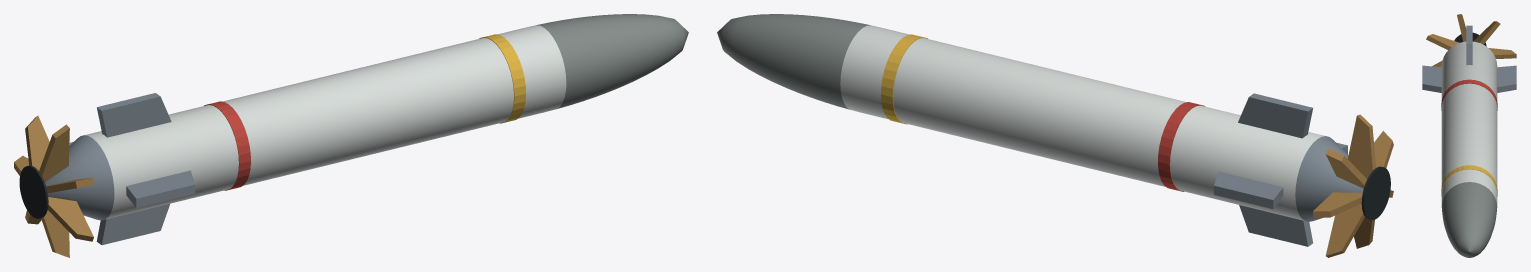
3 renders of one model, left to right at view 1: azimuth 30°, elevation 25°; view 2: azimuth 150°, elevation 25°; view 3: azimuth 270°, elevation 25°, orthographic. The views are drawn at different scales.
Parts seen in each view (by area): view 1: cw90_at1; view 2: cw90_at1; view 3: cw90_at1.
Part boxes in pixels (x1,y1,x2,y2): cw90_at1: (14, 14, 688, 257); cw90_at1: (717, 14, 1393, 257); cw90_at1: (1422, 14, 1516, 257).
Size of the model in its own units: 10 by 1.96 by 1.96.
